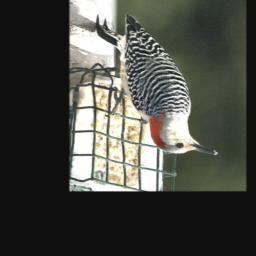Woodpecker: (96, 13, 218, 156)
